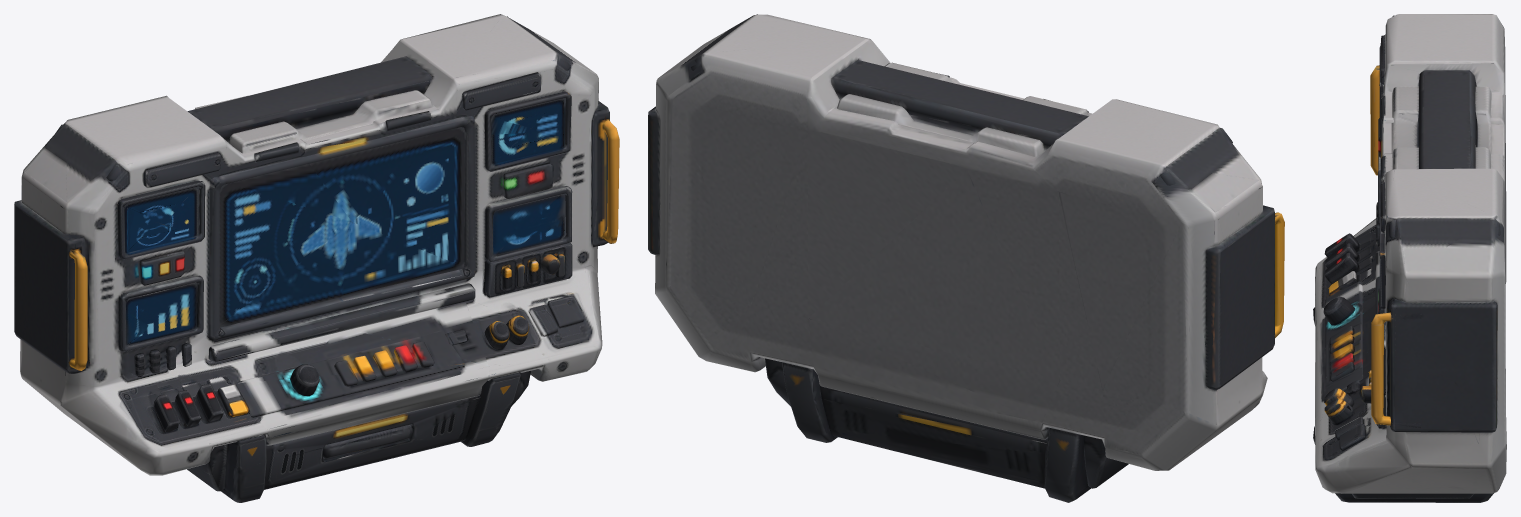
The model's file is Spaceship_Console.glb.
3 renders of one model, left to right at view 1: azimuth 30°, elevation 25°; view 2: azimuth 150°, elevation 25°; view 3: azimuth 270°, elevation 25°, orthographic. The views are drawn at different scales.
Bounding box in the file's own units: 1 × 0.6152 × 0.3262.
Materials: 1 (1 with a texture image).
